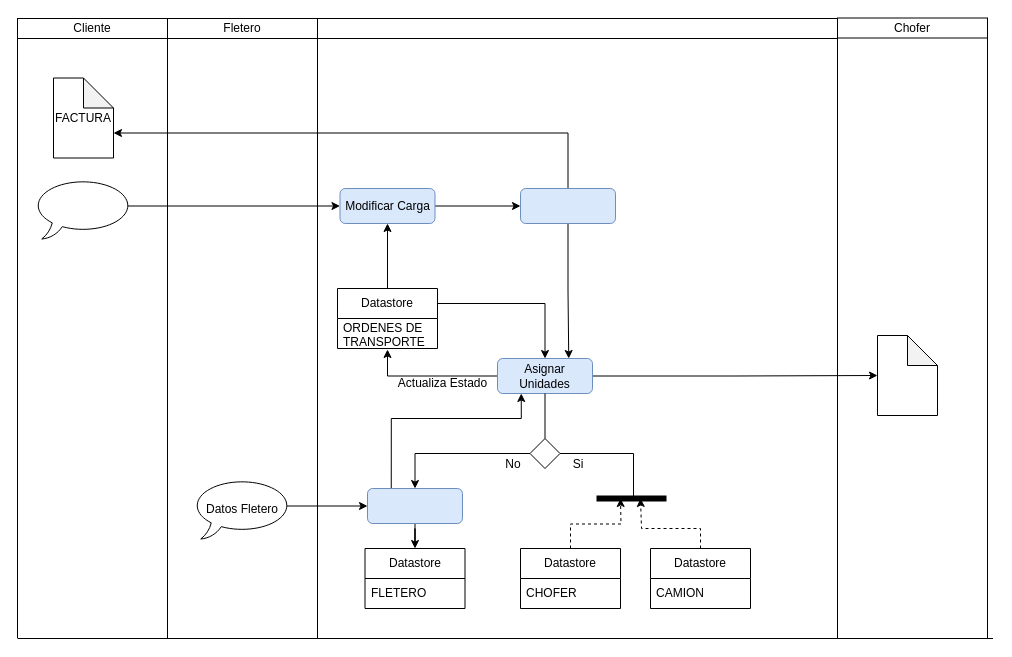
The diagram is 1012 pixels wide and 657 high, and some of its shapes have lost their labels. Here are the shapes that lost their labels. From the top down, the centre of each, then its label:
the point at 577,28: Encargado de Logistica
the point at 83,208: Datos de Carga Modificados
the point at 568,206: Facturar
the point at 907,375: HOJA DE RUTA
the point at 414,506: Contratacion
